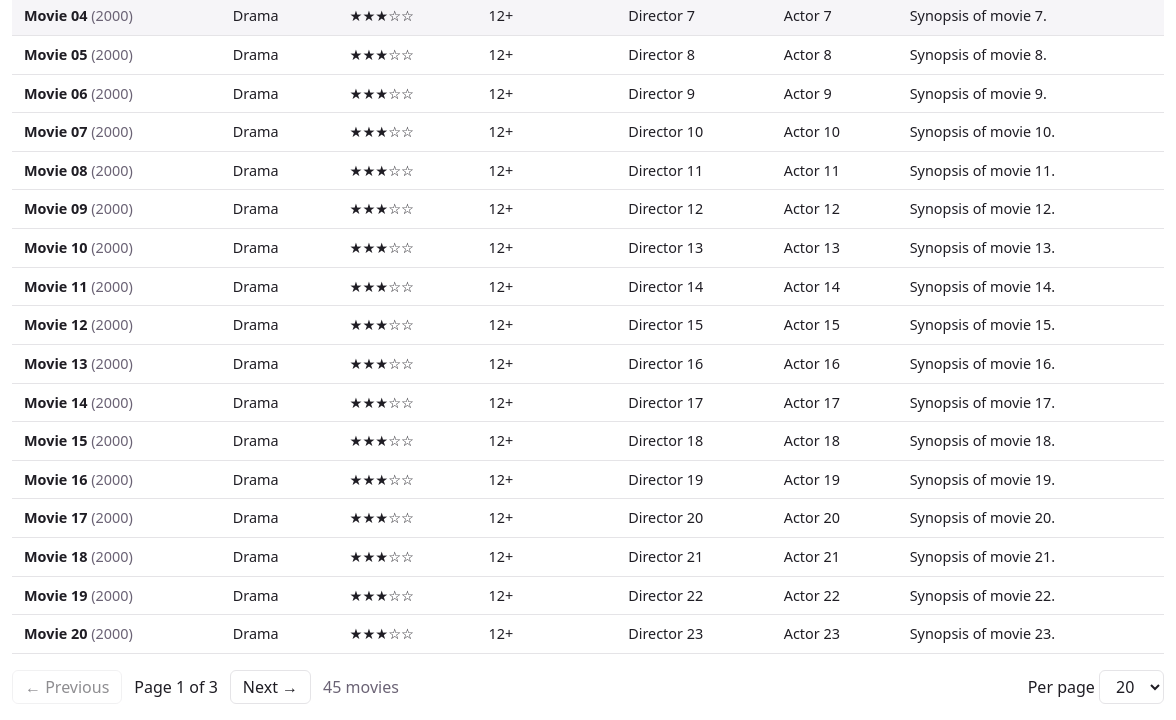
Test: MovieList › pages through the movies
(page scrolled)
Expected: the text "Page 1 of 3" is shown, [134,675,218,699]
Expected: the text "45 movies" is shown, [323,675,399,699]
Step 1. Click the button "Next →" → (270, 687), box [230,670,311,704]
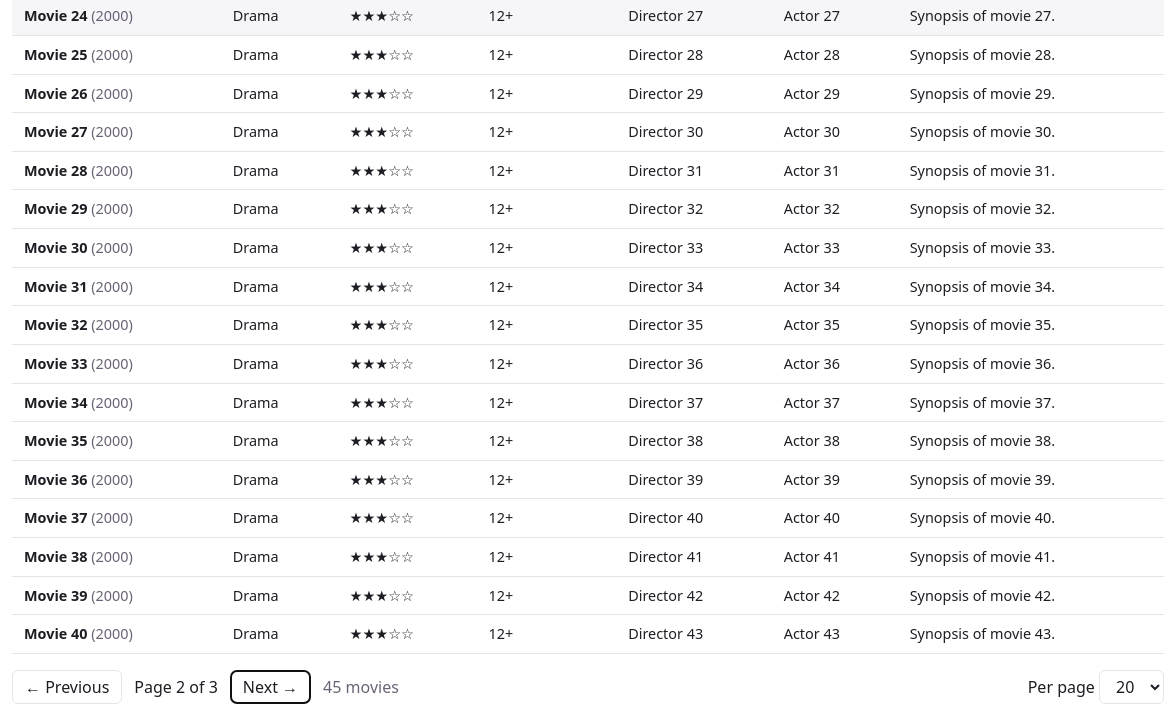
Now the text "Page 2 of 3" is shown, box [134,675,218,699]
Step 2. Click the button "Next →" → (270, 687), box [230,670,311,704]
(page scrolled)
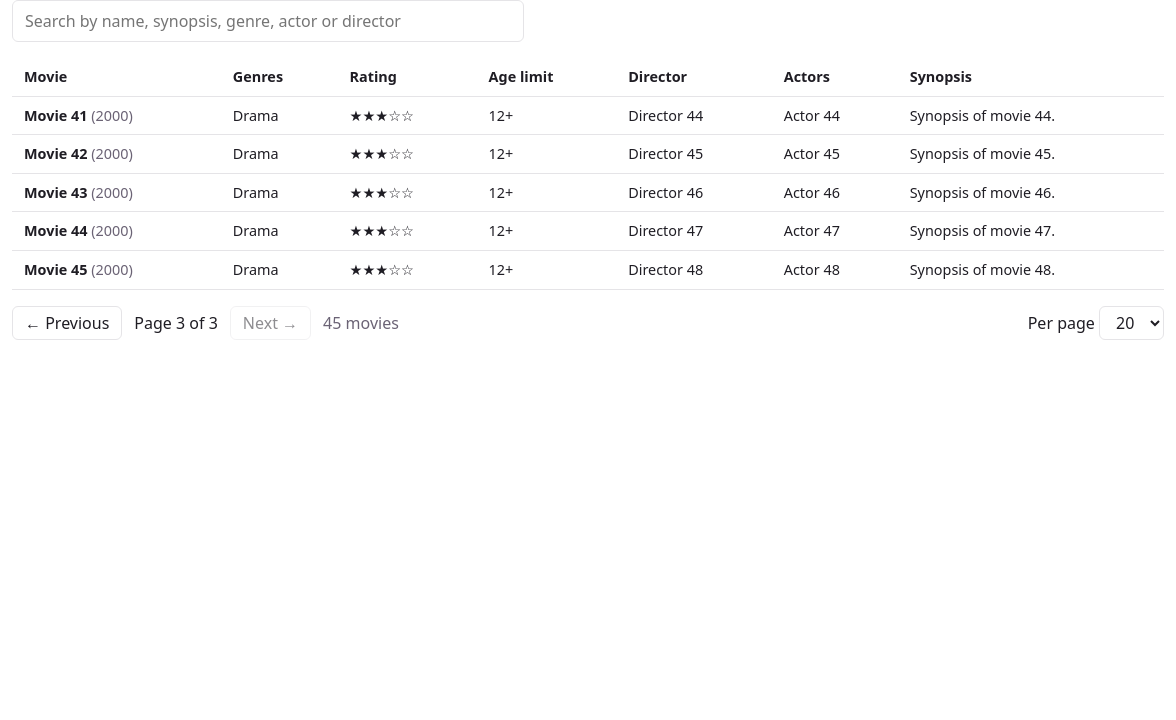
Now the text "Page 3 of 3" is shown, box [134,311,218,335]
Now the button "Next →" is disabled, box [230,306,311,340]
Step 3. Click the button "← Previous" → (67, 323), box [12,306,122,340]
(page scrolled)
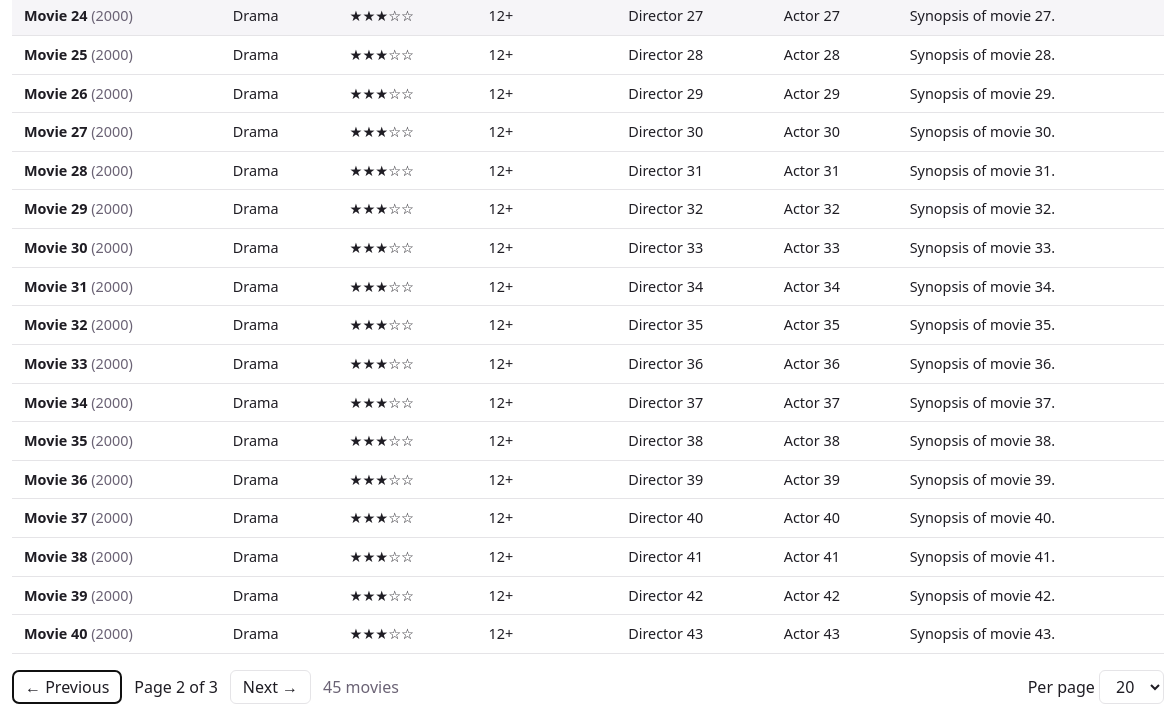
Now the text "Page 2 of 3" is shown, box [134,675,218,699]
